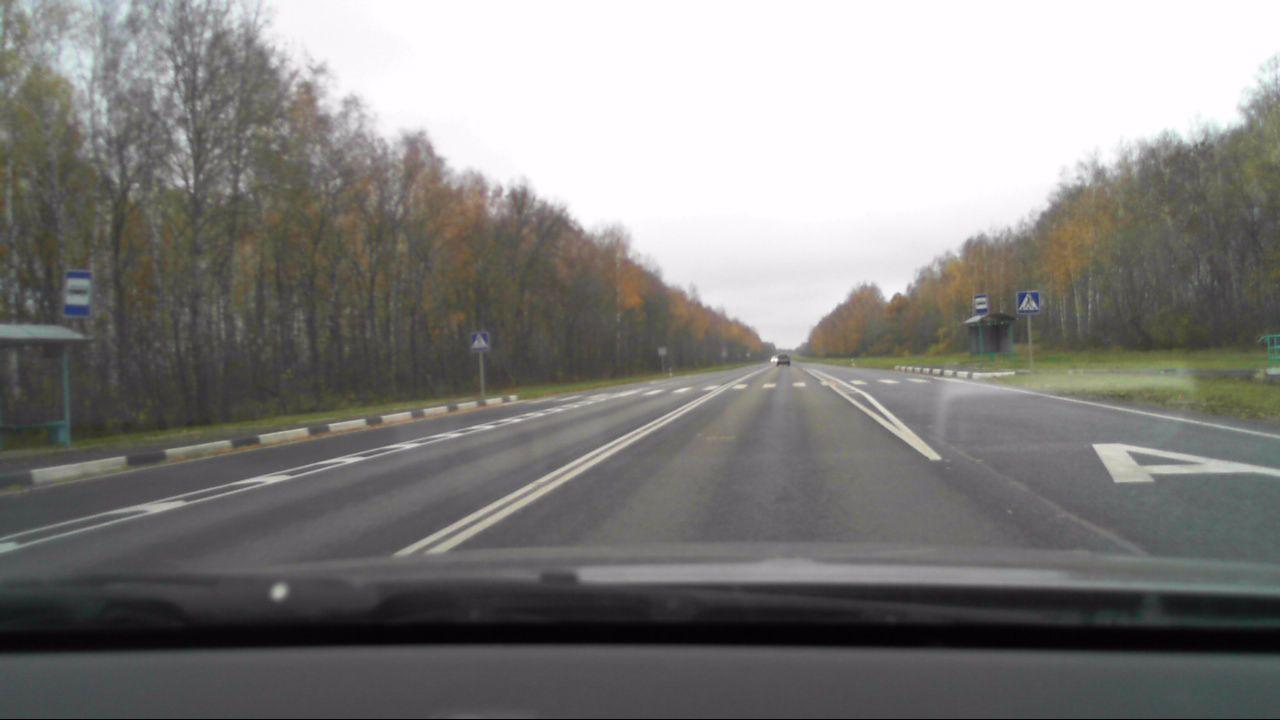5_16: (60, 270, 93, 319), (974, 295, 989, 315)
5_19_1: (1019, 291, 1039, 313)
5_19_2: (472, 330, 489, 349)
